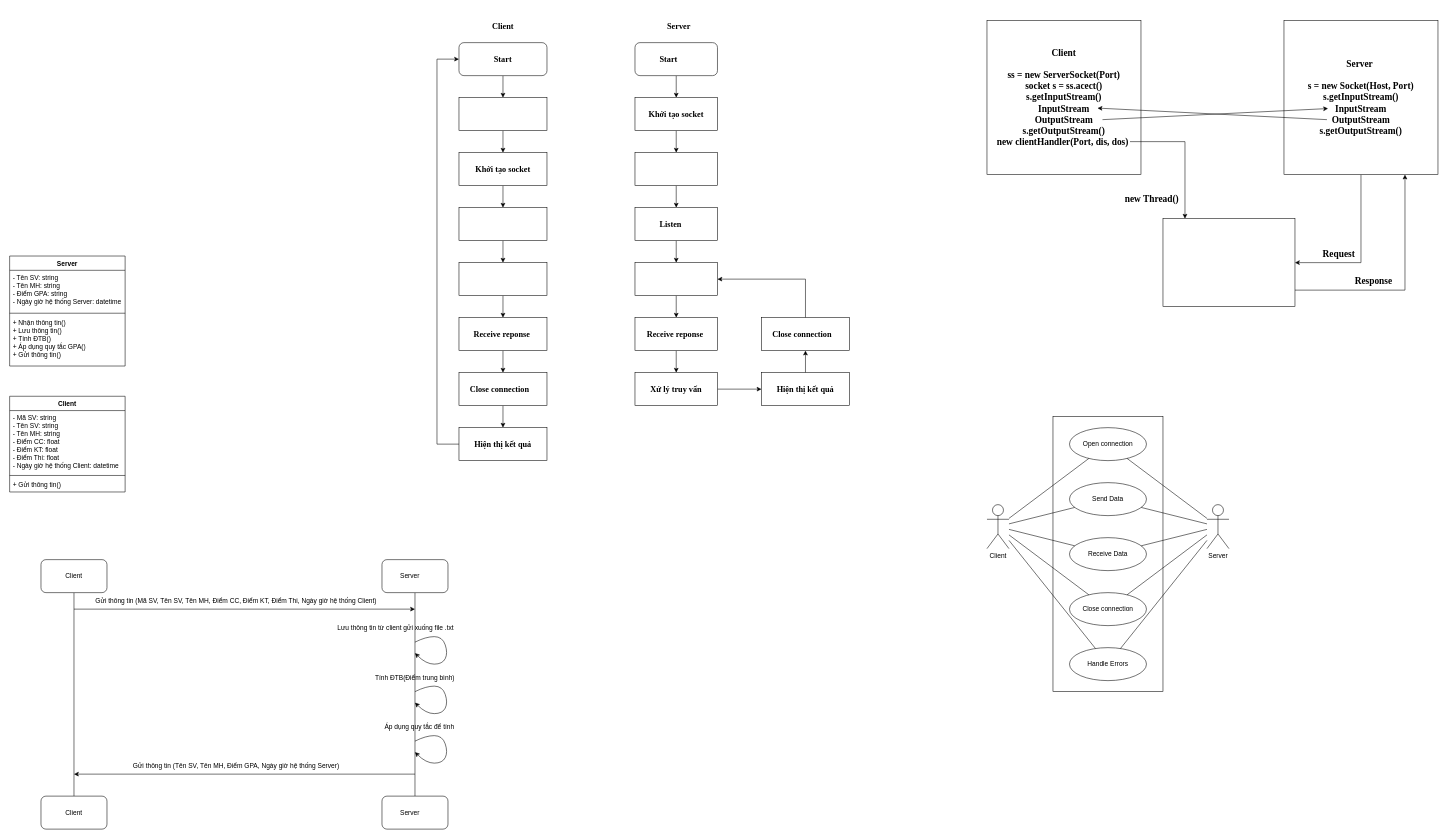
Image size: 1448x839. Some labels were removed from this diagram. Here are the shapes that lost their labels. From the top down, the box of each, then its label:
(458, 97, 547, 131): Nhập lệnh từ User
(634, 152, 717, 186): Bind (Với cổng TCP)
(458, 207, 547, 241): Connect
(458, 262, 547, 296): Send request
(634, 262, 717, 296): Accept
(1162, 218, 1295, 307): Client Handler Port InputStream OutputStream
